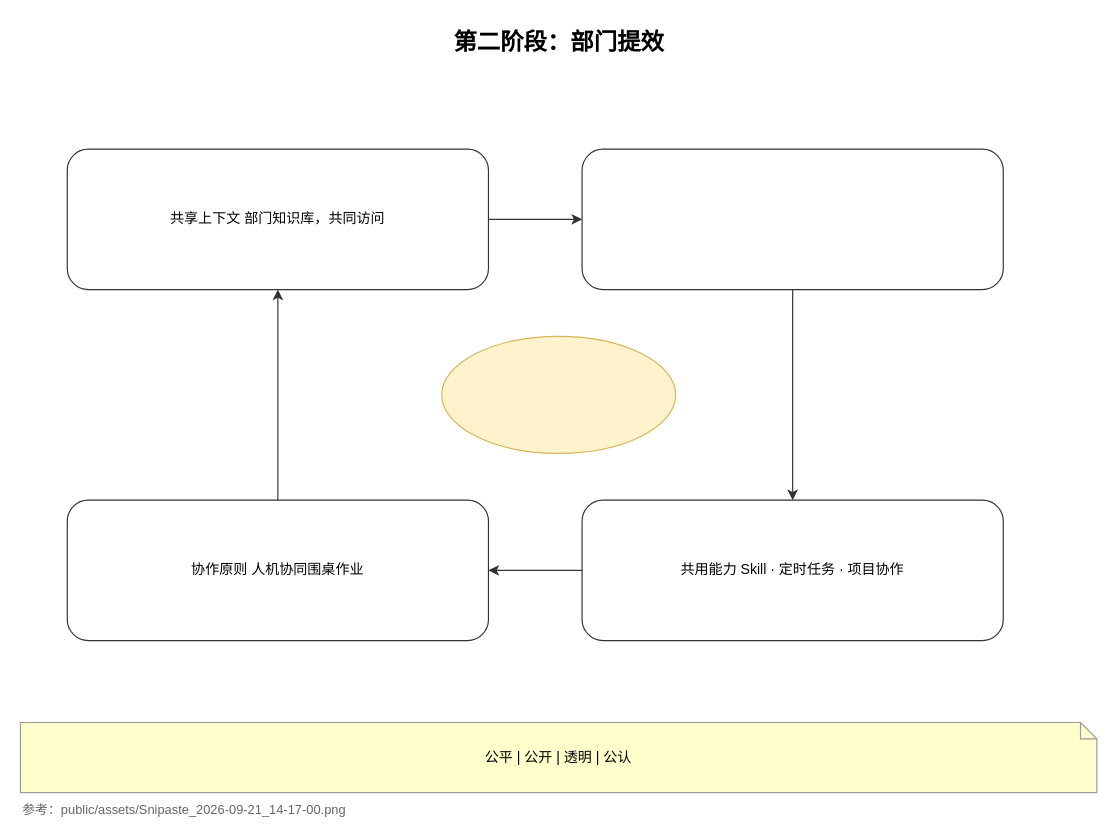
Some shapes in this 1117 by 840 pixel diagram are drawn without their labels. The shapes that lost their labels are listed below. From the top down, each one's centre as x and y in pixels, then its label:
At point (792, 219): "共同标准 什么是好、进度如何、怎样验收".
At point (558, 394): "部门知识库".
